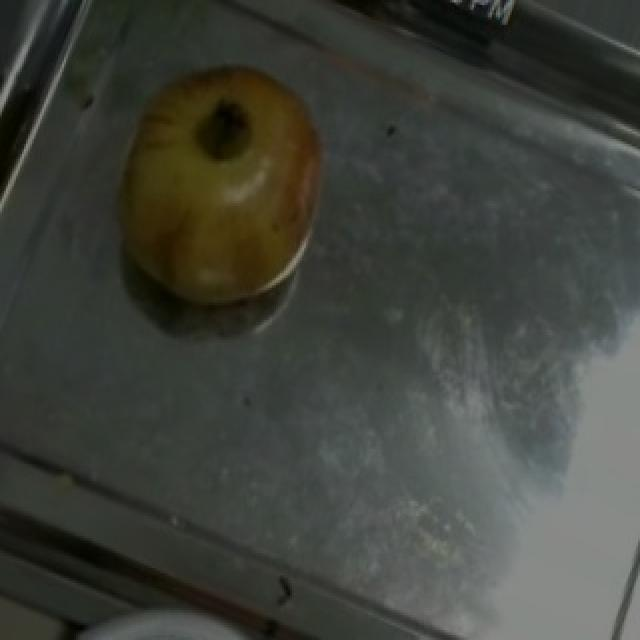fruit: (92, 32, 362, 310)
